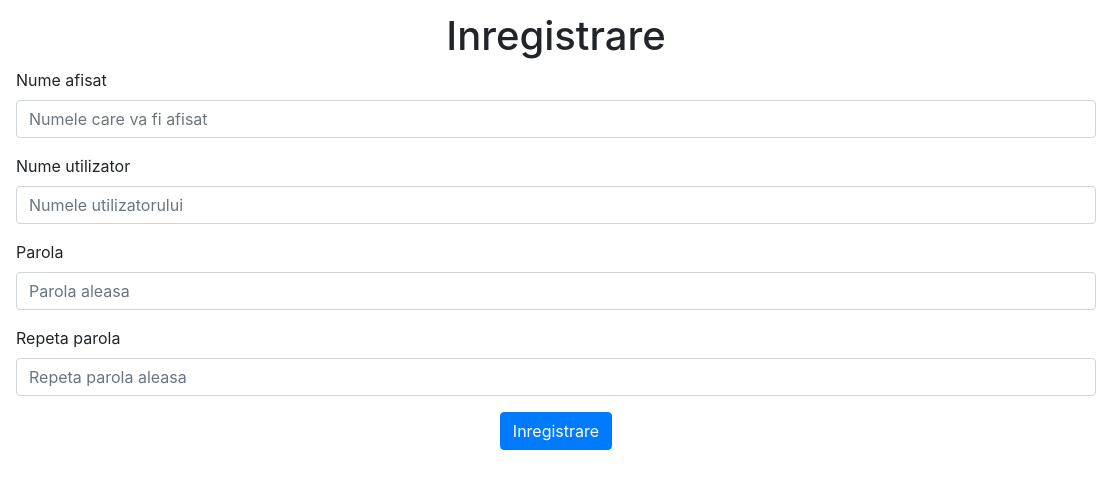
Test: PaginaInregistrareUtilizator › Interactiuni › 18. Ascunde eroarea de validare pentru numele afișat atunci când se schimbă valoarea pentru acest câmp.
The width and height of the screenshot is (1113, 490).
Step 1. Type "nume-afisat" into the field with placeholder "Numele care va fi afisat" → point(556, 119), box left=16, top=100, right=1096, bottom=138
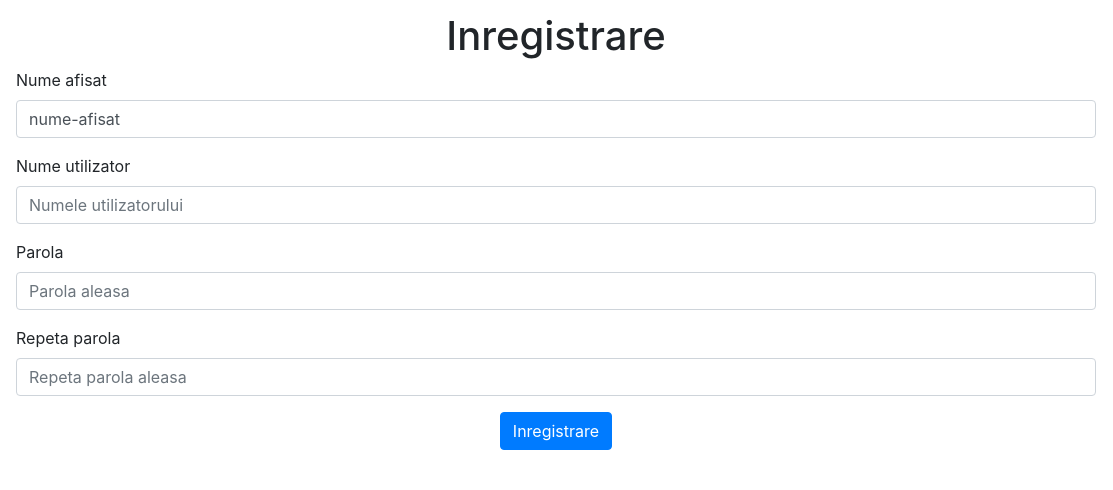
Step 2. Type "nume-utilizator" into the field with placeholder "Numele utilizatorului" → point(556, 205), box left=16, top=186, right=1096, bottom=224
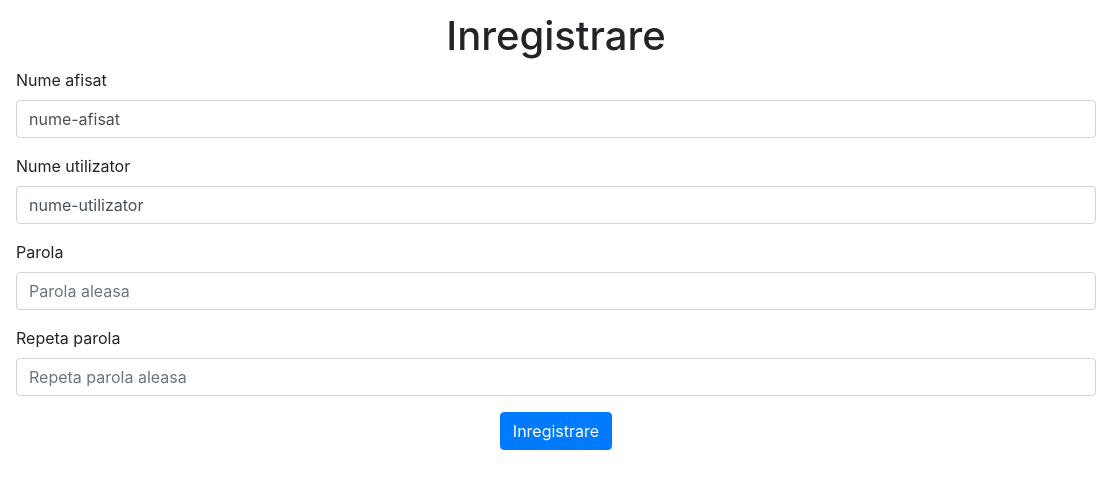
Step 3. Type "Parola01" into the password field with placeholder "Parola aleasa" → point(556, 291), box left=16, top=272, right=1096, bottom=310
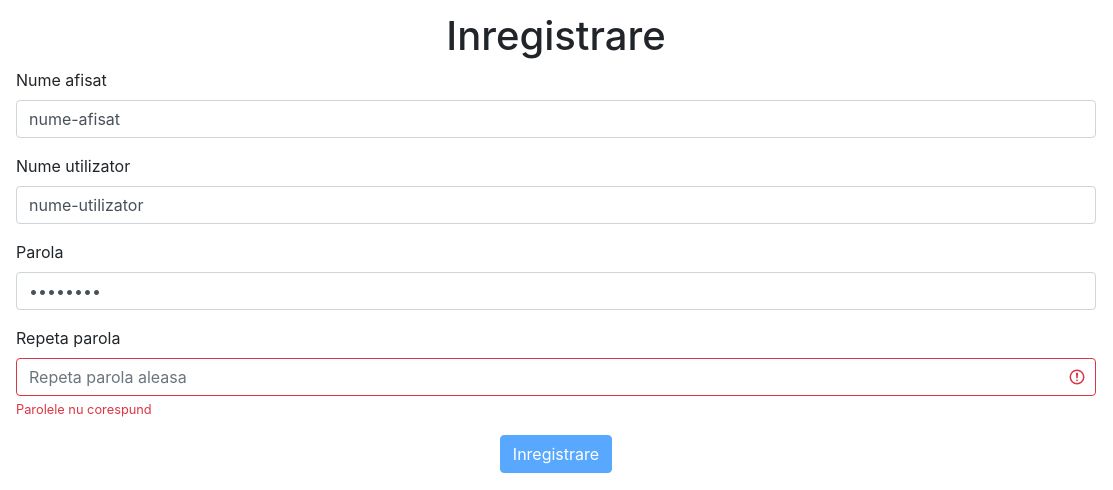
Step 4. Type "Parola01" into the password field with placeholder "Repeta parola aleasa" → point(556, 377), box left=16, top=358, right=1096, bottom=396
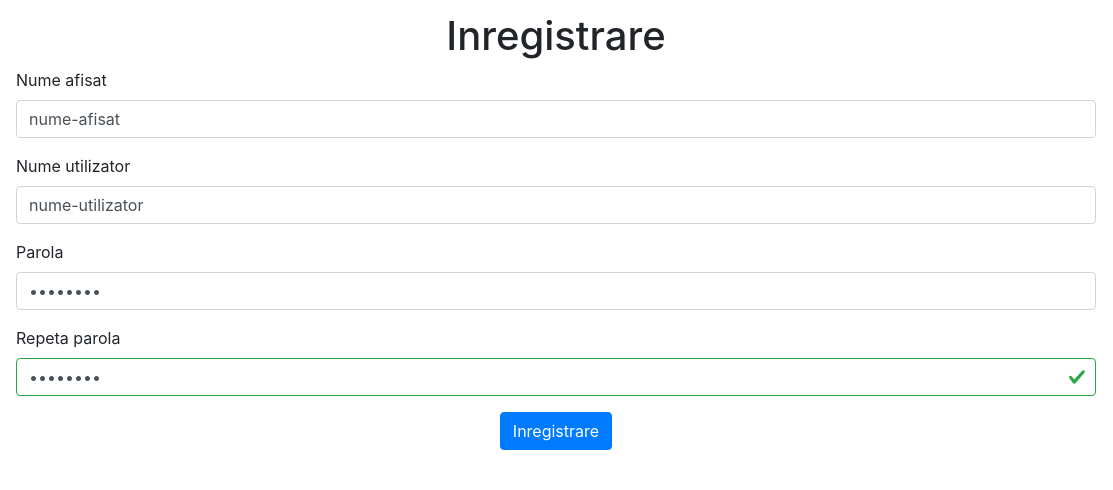
Step 5. Click the button "Inregistrare" → point(556, 431), box left=500, top=412, right=612, bottom=450
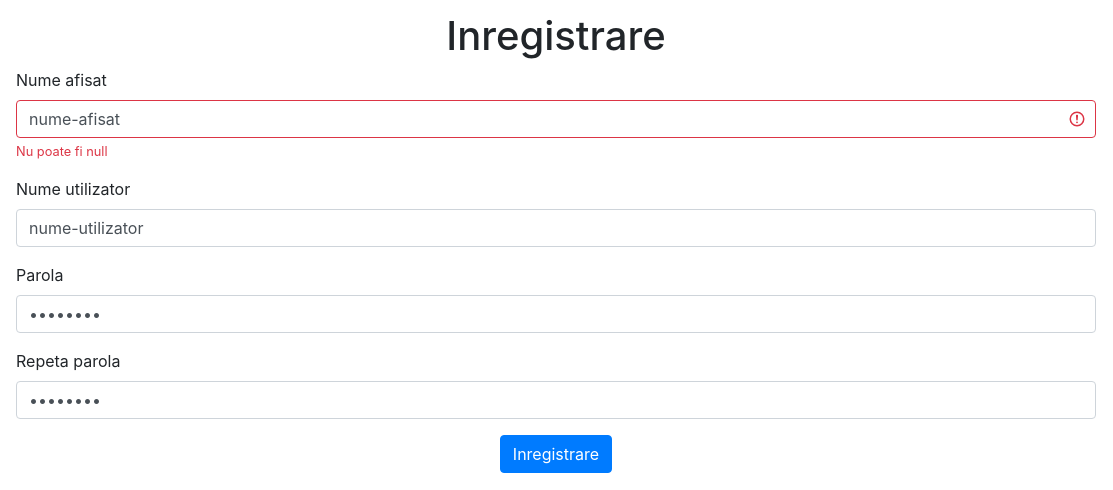
Step 6. Replace the text in the field with placeholder "Numele care va fi afisat" below "Nume afisat" with "nume afisare schimbat" → point(556, 119), box left=16, top=100, right=1096, bottom=138
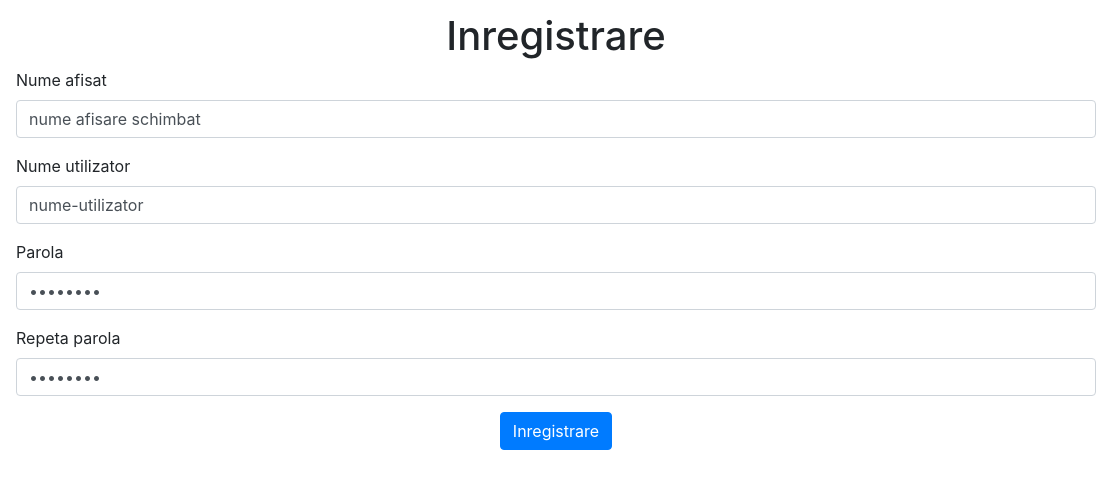
Check: the text "Nu poate fi null" is gone
